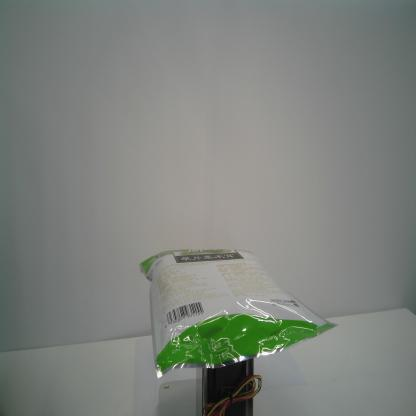Dried Food: (137, 245, 339, 382)
